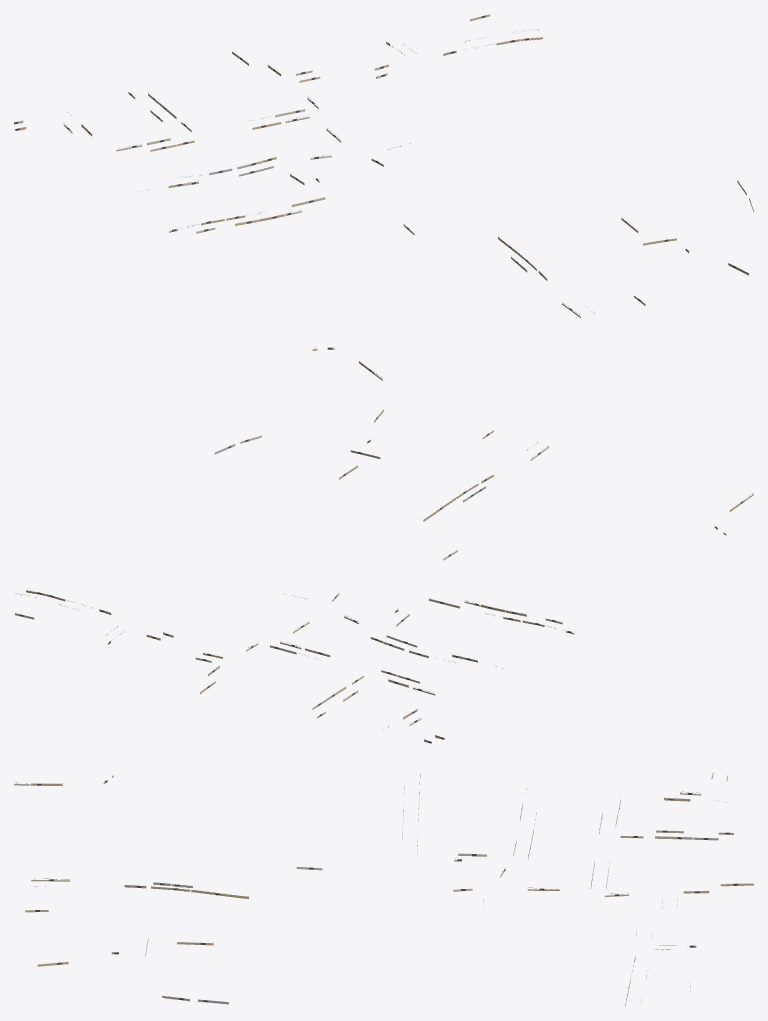
3 renders of one model, top to bottom at view 1: azimuth 30°, elevation 25°; view 2: azimuth 150°, elevation 25°; view 3: azimuth 270°, elevation 25°, orthographic. The views are drawn at different scales.
Parts seen in each view (by area): view 1: nd_st_m15_m8_lod0; view 2: nd_st_m15_m8_lod0; view 3: nd_st_m15_m8_lod0.
Boxes of the visible parts, <box> form: nd_st_m15_m8_lod0: <box>14,14,753,380</box>; nd_st_m15_m8_lod0: <box>15,409,753,743</box>; nd_st_m15_m8_lod0: <box>14,773,753,1005</box>.
Size of what is drawn, in the model's own units: 401 by 13.34 by 520.
